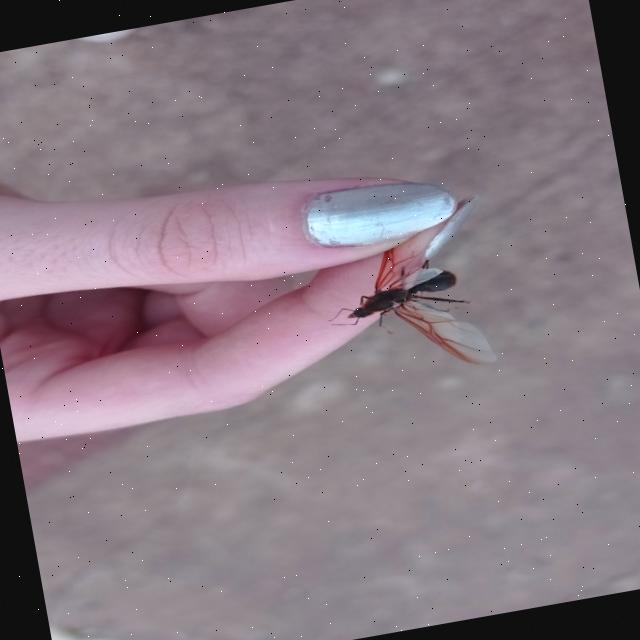Alive-Male-Alate: (318, 232, 498, 390)
